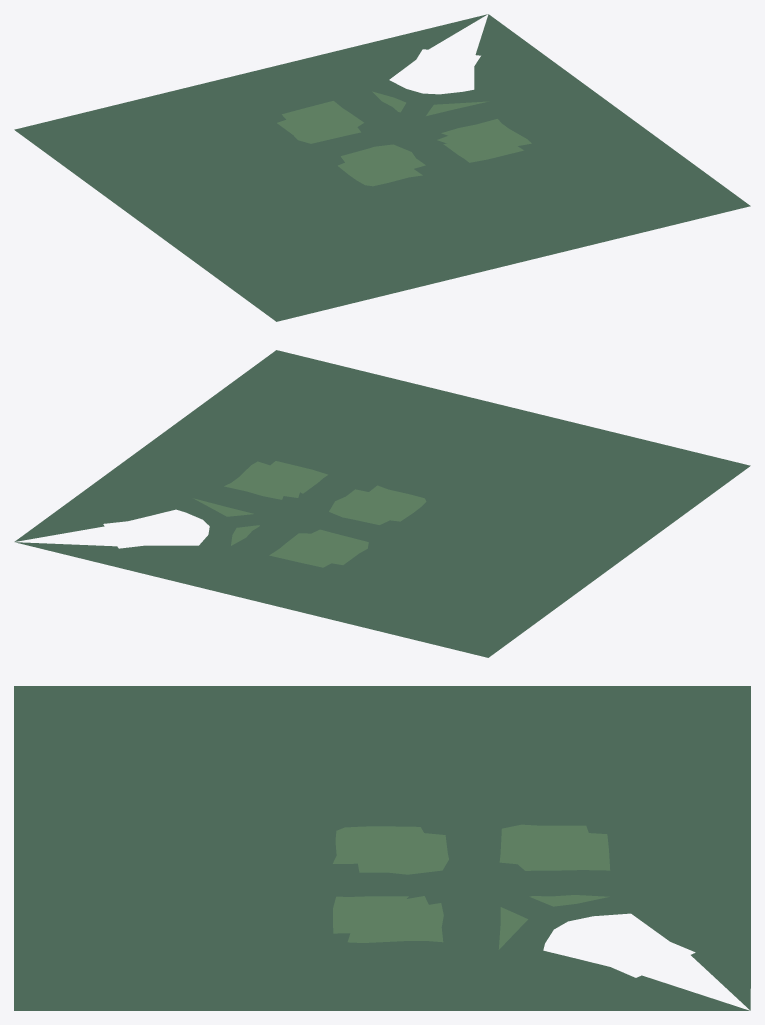
Rendered from CH_GA_Terrain_Hell.FBX.
3 views of the same model, one above another, from view 1: azimuth 30°, elevation 25°; view 2: azimuth 150°, elevation 25°; view 3: azimuth 270°, elevation 25° (orthographic). The views are drawn at different scales.
Visible parts, largest first — view 1: CH_GA_Terrain_Hell; view 2: CH_GA_Terrain_Hell; view 3: CH_GA_Terrain_Hell.
Part boxes in pixels (<box>): CH_GA_Terrain_Hell: <box>14,14,750,321</box>; CH_GA_Terrain_Hell: <box>14,350,750,657</box>; CH_GA_Terrain_Hell: <box>14,686,750,1010</box>.
Bounding box in the file's own units: 10581 × 0.000122 × 10141.
